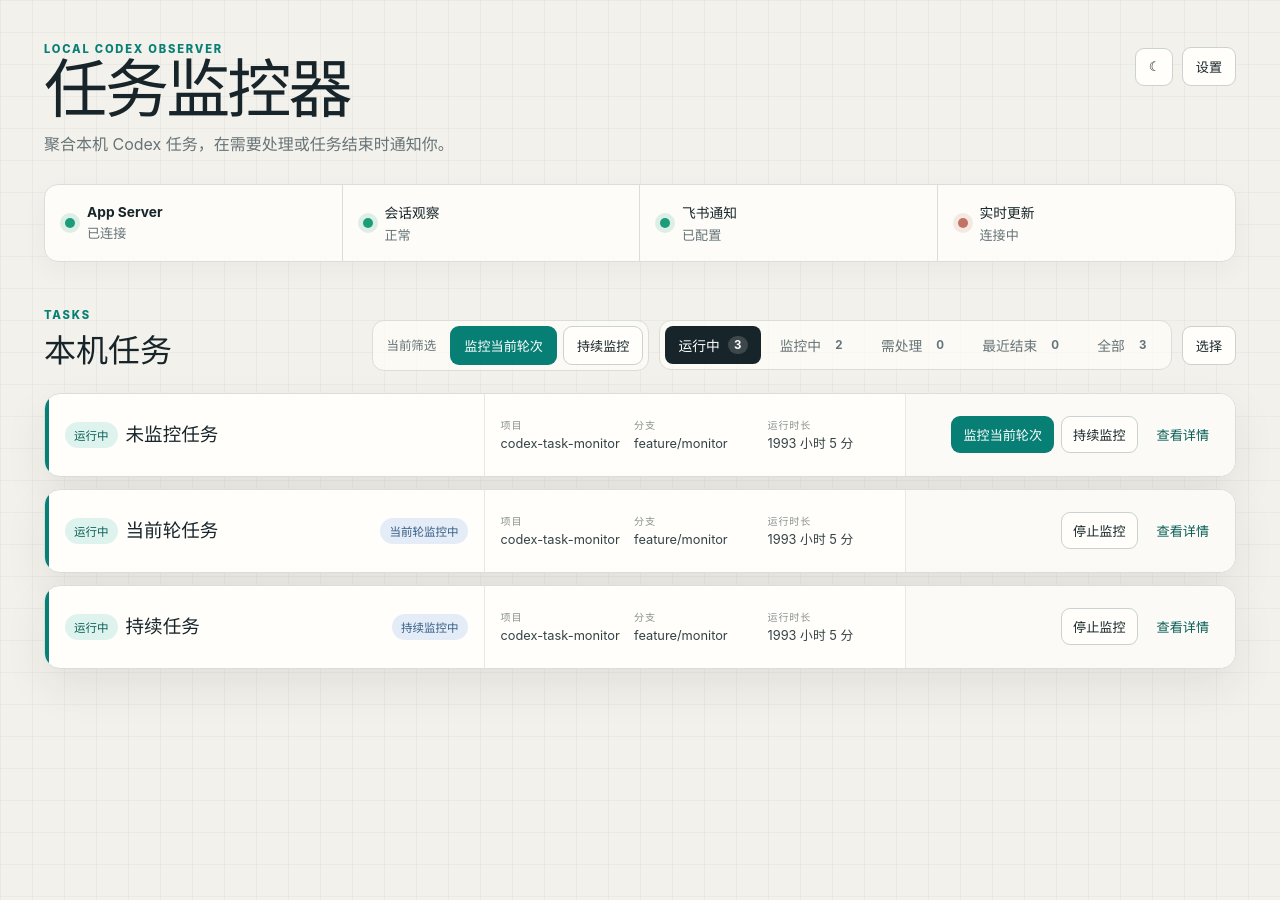
Test case: 任务监控主页面 › 当前筛选持续监控升级未监控和当前轮任务
This screenshot has width=1280, height=900.
Click the button "持续监控" in the row of "当前筛选" at [603, 345], box [563,326,644,365]
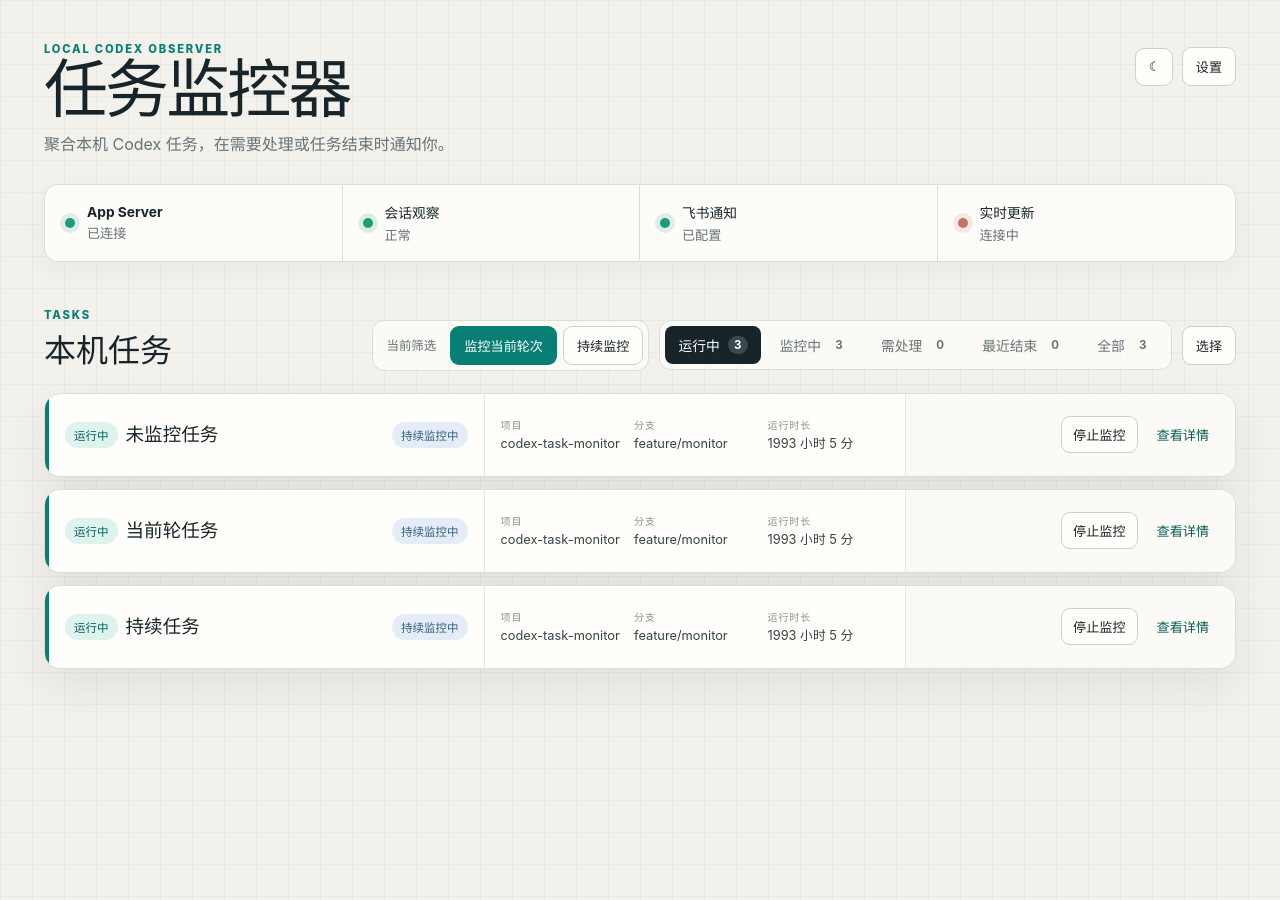
Expected: the text with class "watch-badge" in the row of "持续任务" reads "持续监控中", [401,621,459,635]
Result: the text with class "watch-badge" in the row of "未监控任务" reads "持续监控中" at [401,429,459,443]
Result: the text with class "watch-badge" in the row of "当前轮任务" reads "持续监控中" at [401,525,459,539]
